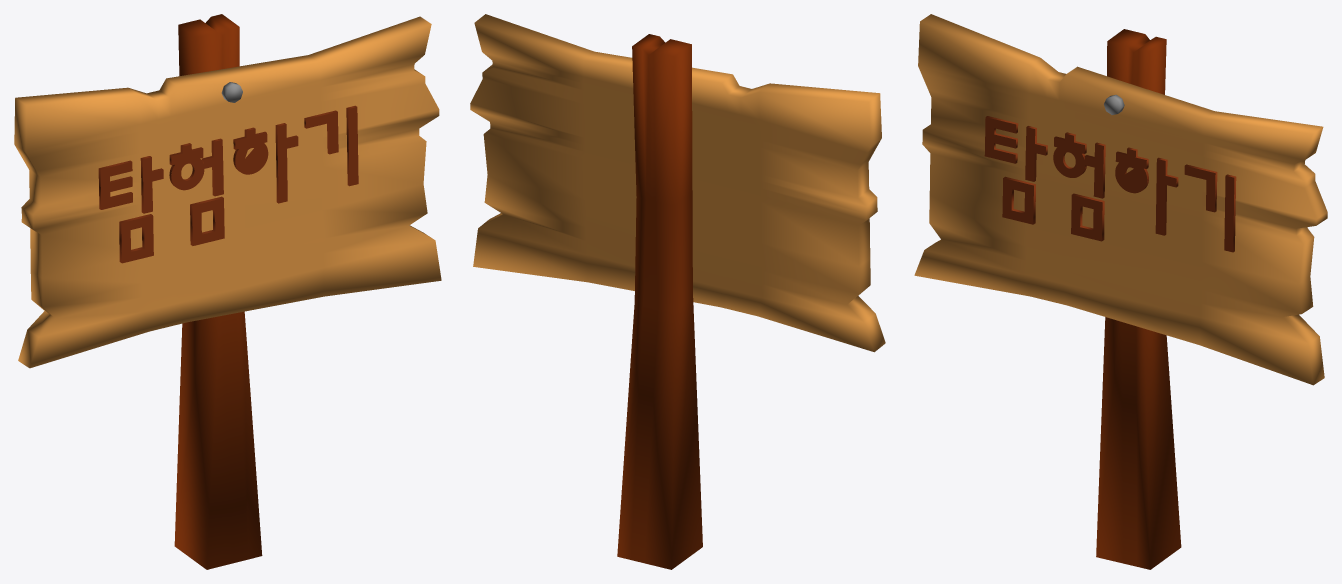
The model's file is I_Woodsign.fbx.
The picture shows the model from 3 angles, left to right: view 1: azimuth 30°, elevation 25°; view 2: azimuth 150°, elevation 25°; view 3: azimuth 330°, elevation 25°; orthographic projection. The views are drawn at different scales.
Visible parts, largest first — view 1: Cube, Plane, Text; view 2: Cube, Plane; view 3: Cube, Plane, Text.
Part boxes in pixels (<box>): Cube: <box>14,16,441,368</box>; Plane: <box>174,14,262,569</box>; Text: <box>98,105,358,263</box>; Cube: <box>470,14,885,352</box>; Plane: <box>617,34,702,569</box>; Cube: <box>914,14,1327,385</box>; Plane: <box>1096,29,1181,569</box>; Text: <box>984,116,1236,252</box>.
Bounding box in the file's own units: 351 × 426 × 56.26.
